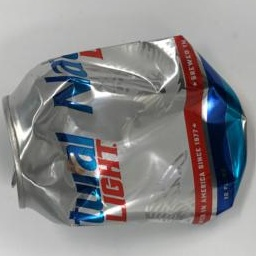Metal: (8, 28, 232, 244)
